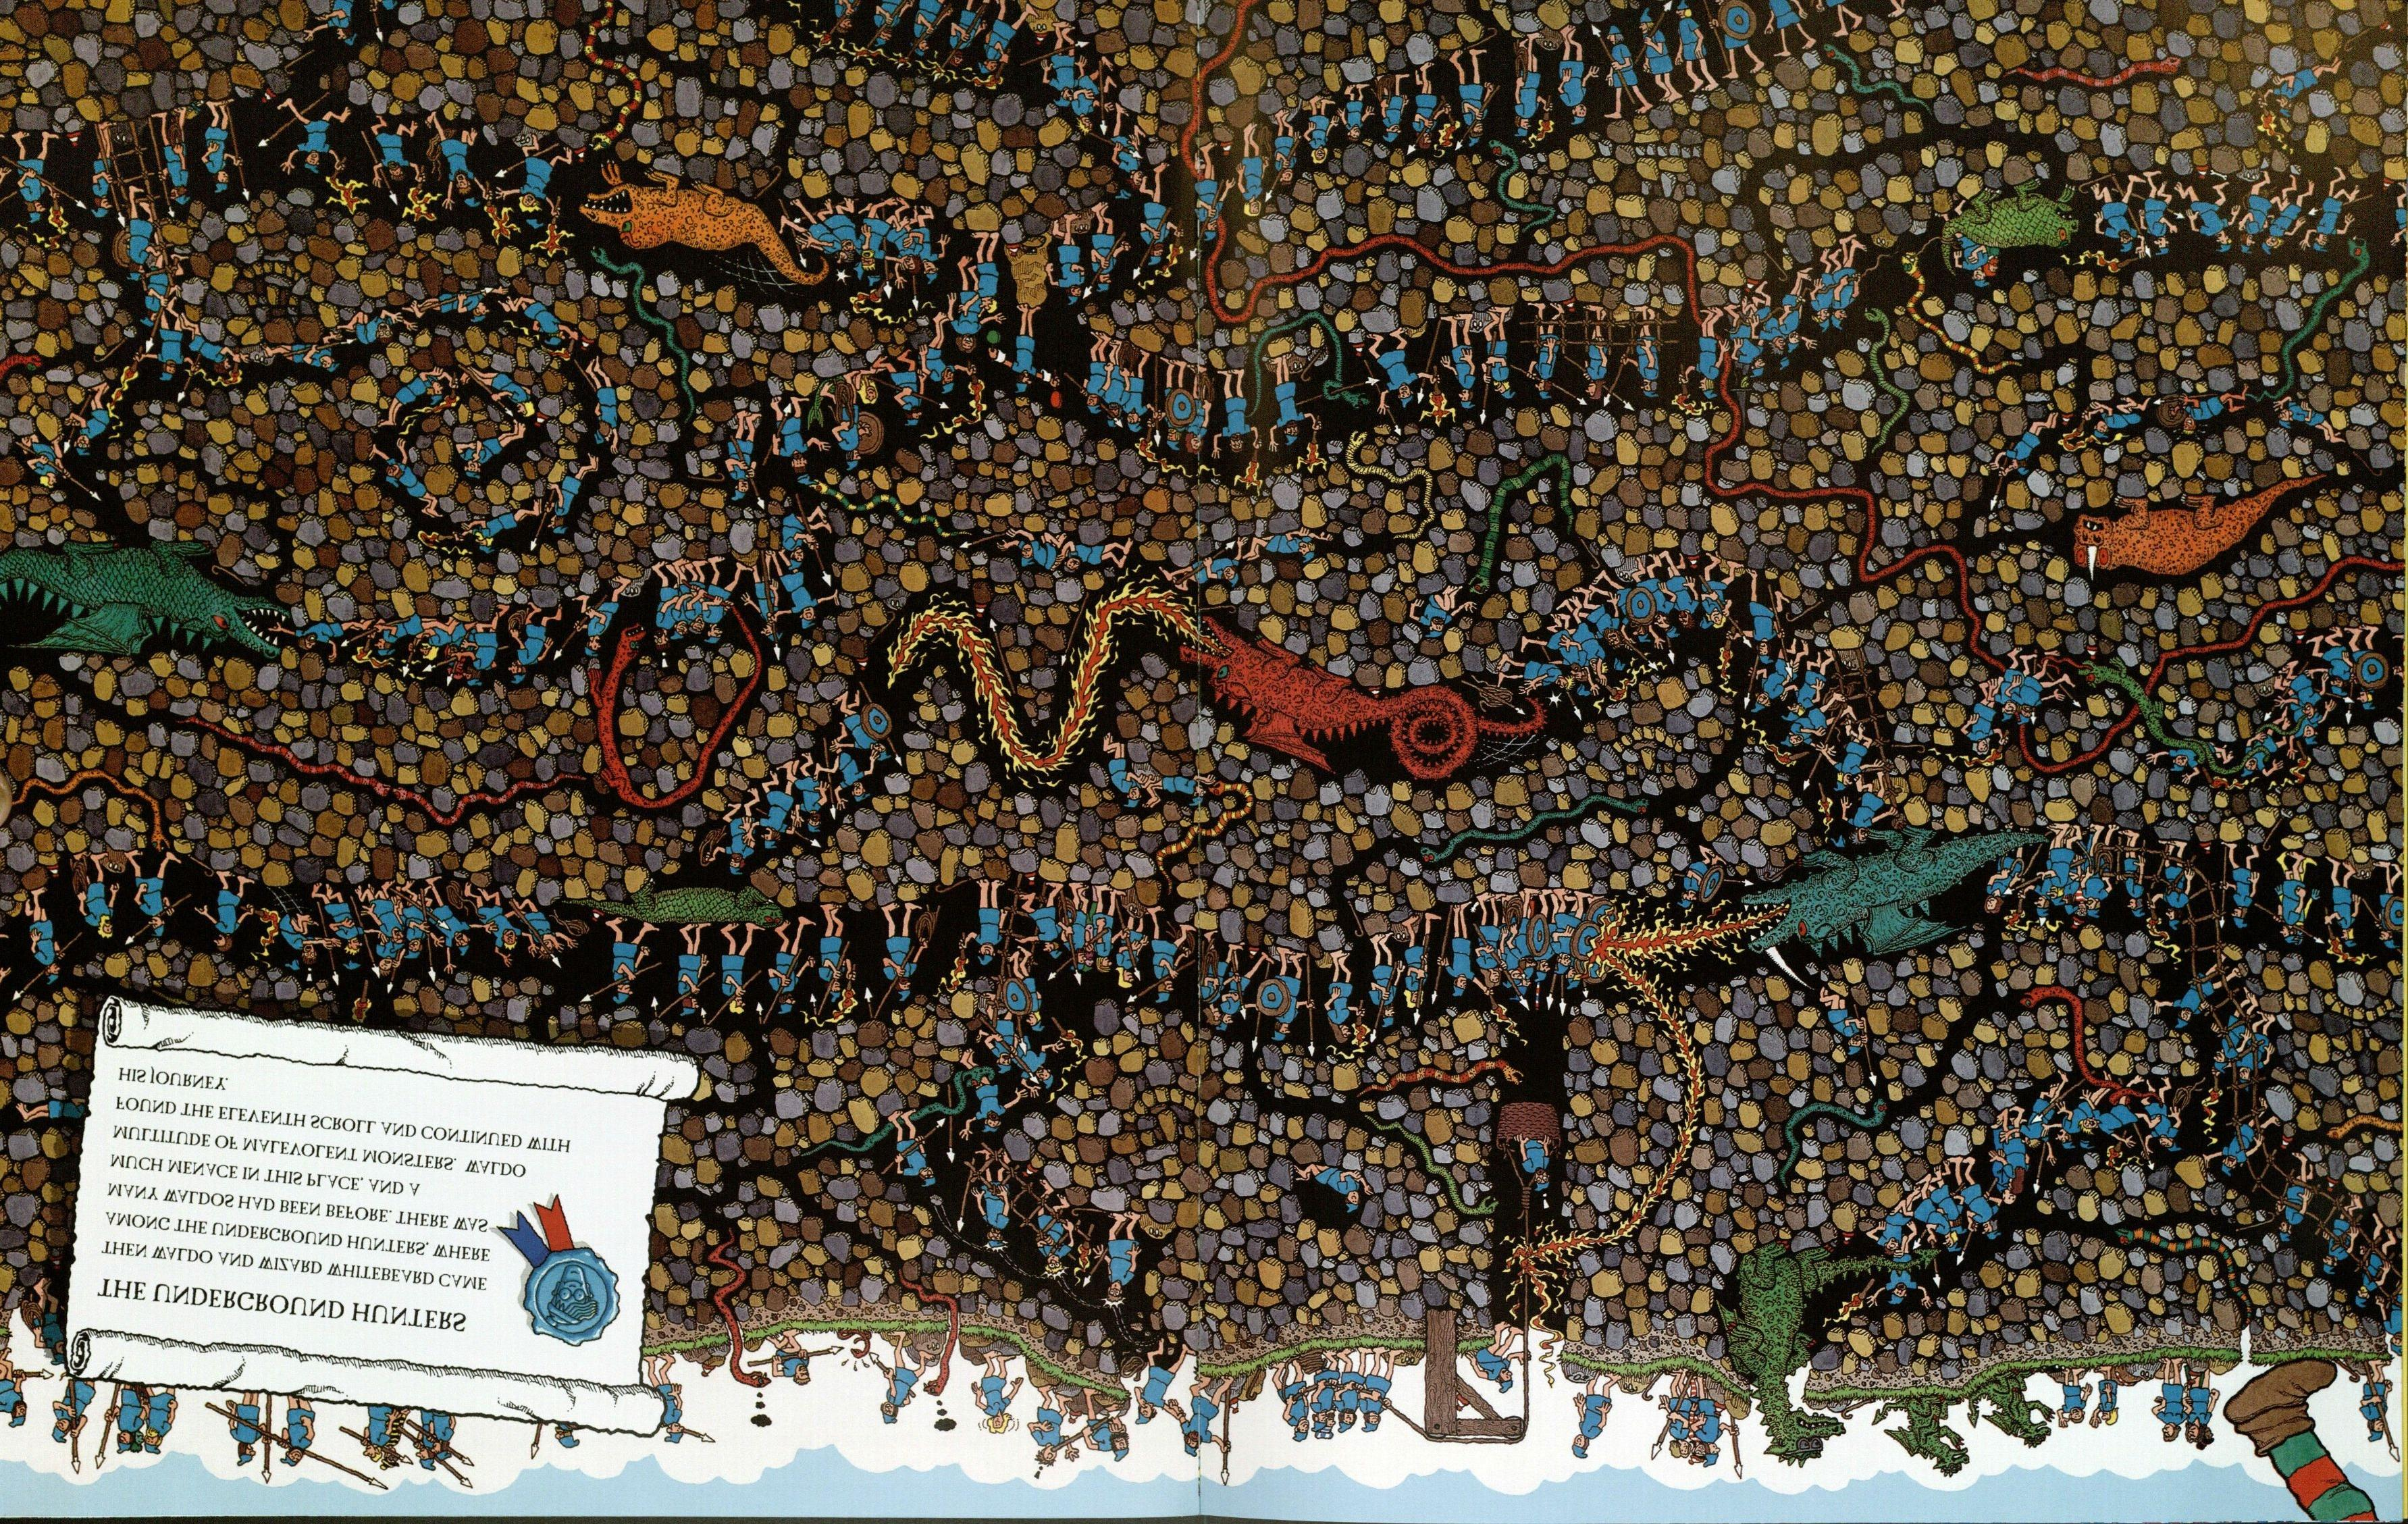waldos: (2068, 830, 2097, 932)
